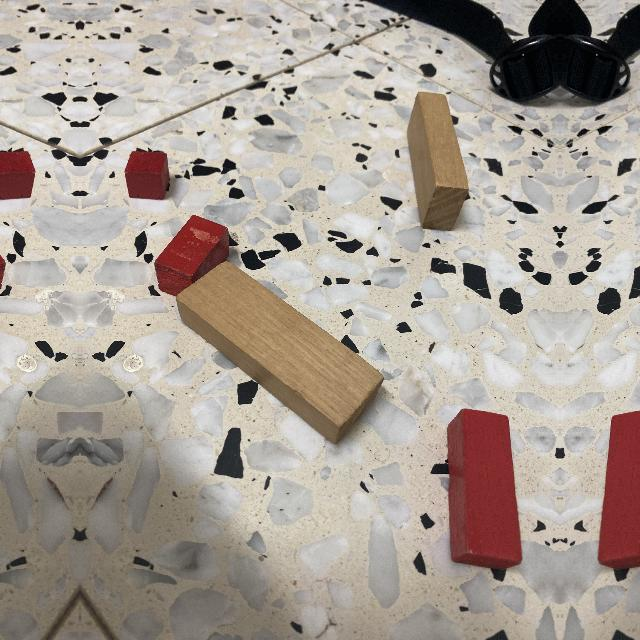jenga: (175, 262, 384, 445), (407, 91, 471, 232)
red block: (446, 409, 523, 581), (597, 411, 640, 581), (154, 215, 229, 296)
red cube: (126, 152, 167, 199), (0, 152, 34, 199)
